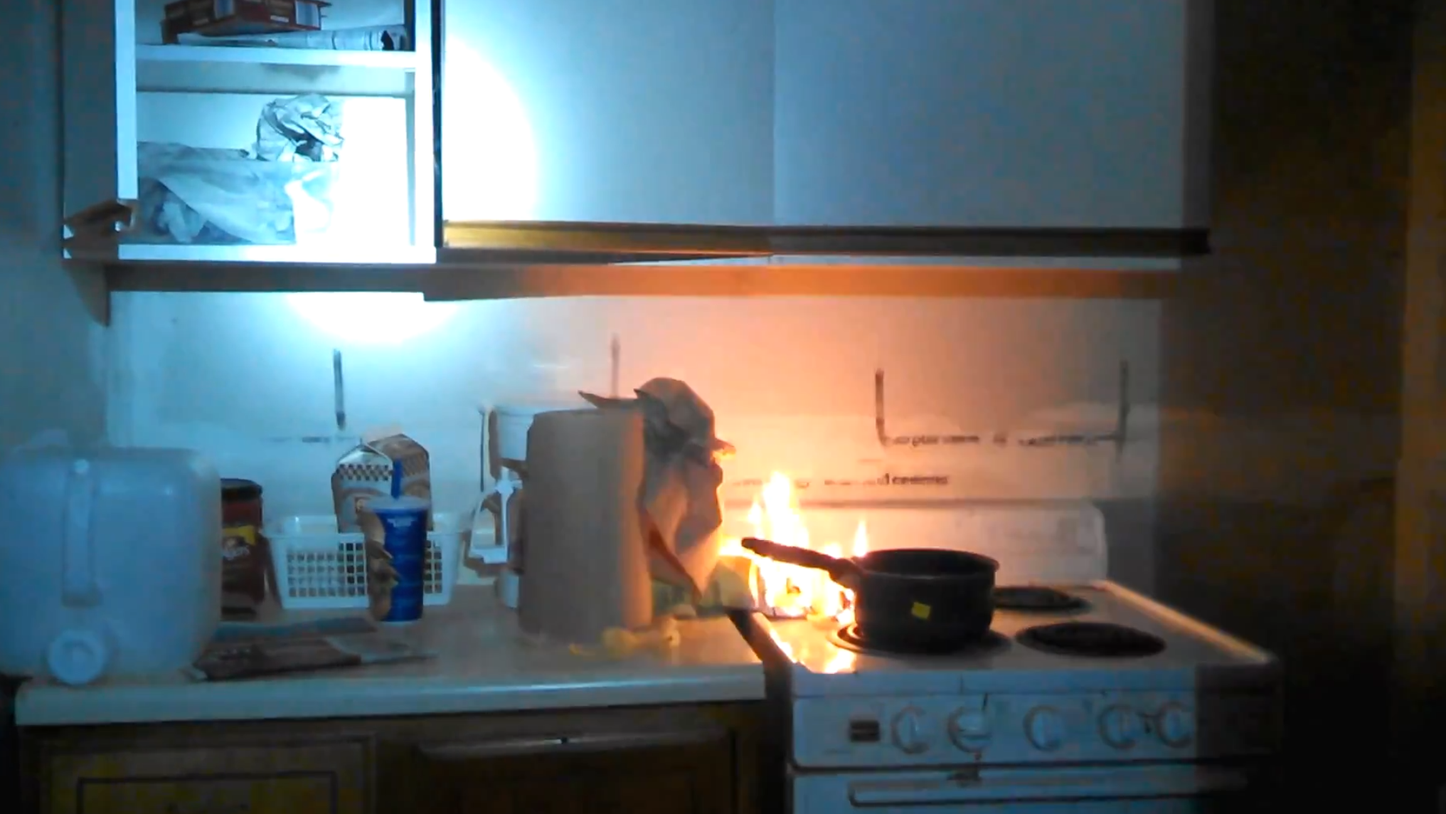Fire: (656, 465, 940, 672)
